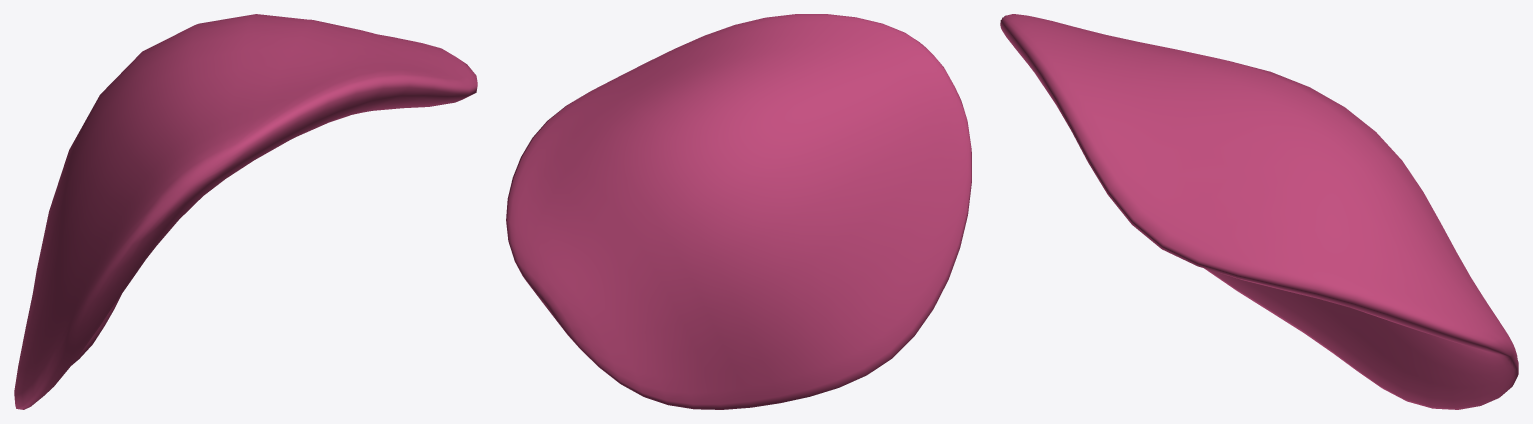
3 renders of one model, left to right at view 1: azimuth 30°, elevation 25°; view 2: azimuth 150°, elevation 25°; view 3: azimuth 270°, elevation 25°, orthographic. The views are drawn at different scales.
Parts seen in each view (by area): view 1: 右侧臀大肌坐骨囊; view 2: 右侧臀大肌坐骨囊; view 3: 右侧臀大肌坐骨囊.
Part boxes in pixels (x1,y1,x2,y2): 右侧臀大肌坐骨囊: [14, 14, 477, 409]; 右侧臀大肌坐骨囊: [506, 14, 971, 409]; 右侧臀大肌坐骨囊: [1000, 14, 1518, 409].
Size of the model in its own units: 0.0389 by 0.03 by 0.0376.
